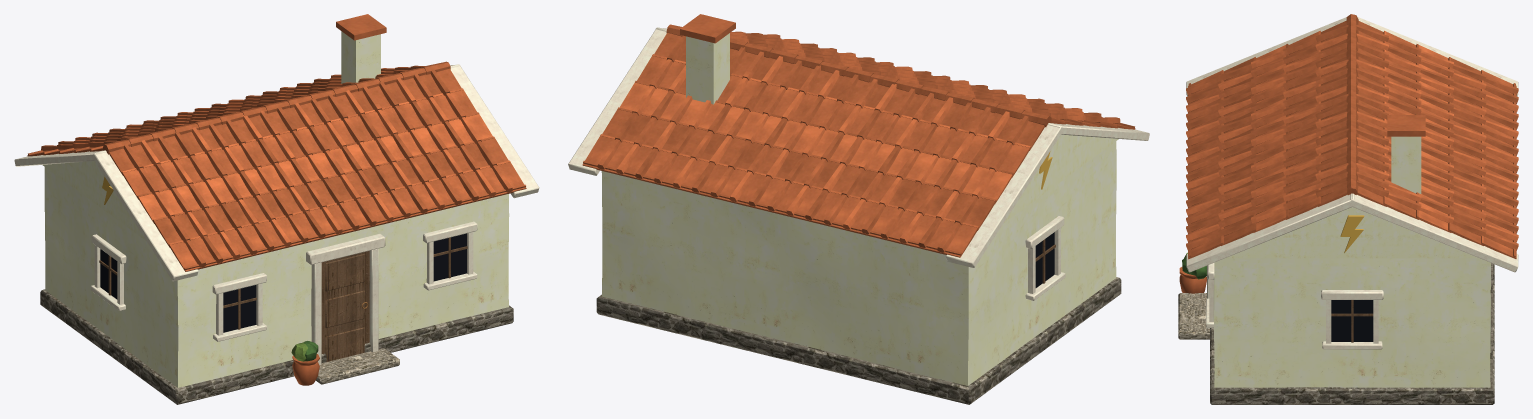
The model's file is home_cottage_t1.glb.
3 renders of one model, left to right at view 1: azimuth 30°, elevation 25°; view 2: azimuth 150°, elevation 25°; view 3: azimuth 270°, elevation 25°, orthographic. The views are drawn at different scales.
Visible parts, largest first — view 1: plaster, terracotta1, terracotta0, terracotta2, cream, stone_dark, wood_dark, dark, stone, terracotta; view 2: plaster, terracotta1, terracotta0, terracotta2, stone_dark, cream, dark; view 3: plaster, terracotta1, terracotta0, terracotta2, cream, stone_dark, dark, stone, terracotta, gold.
Part boxes in pixels (<box>): plaster: <box>42,31,509,387</box>; terracotta1: <box>28,61,525,270</box>; terracotta0: <box>27,14,526,271</box>; terracotta2: <box>43,68,510,258</box>; cream: <box>14,64,539,364</box>; stone_dark: <box>40,289,513,404</box>; wood_dark: <box>99,237,467,361</box>; dark: <box>100,233,466,332</box>; stone: <box>315,348,399,384</box>; terracotta: <box>292,354,319,385</box>; plaster: <box>601,33,1118,385</box>; terracotta1: <box>583,24,1134,256</box>; terracotta0: <box>582,14,1135,257</box>; terracotta2: <box>600,31,1117,243</box>; stone_dark: <box>596,277,1121,404</box>; cream: <box>568,27,1149,300</box>; dark: <box>1035,232,1054,287</box>; plaster: <box>1213,136,1490,387</box>; terracotta1: <box>1186,14,1518,257</box>; terracotta0: <box>1186,31,1518,259</box>; terracotta2: <box>1186,30,1518,245</box>; cream: <box>1186,17,1518,349</box>; stone_dark: <box>1210,263,1494,404</box>; dark: <box>1331,300,1373,341</box>; stone: <box>1178,293,1209,339</box>; terracotta: <box>1179,267,1206,293</box>; gold: <box>1340,215,1364,252</box>.
Size of the model in its own units: 7.3 by 4.67 by 5.67.
Materials: 14 (12 with a texture image).
